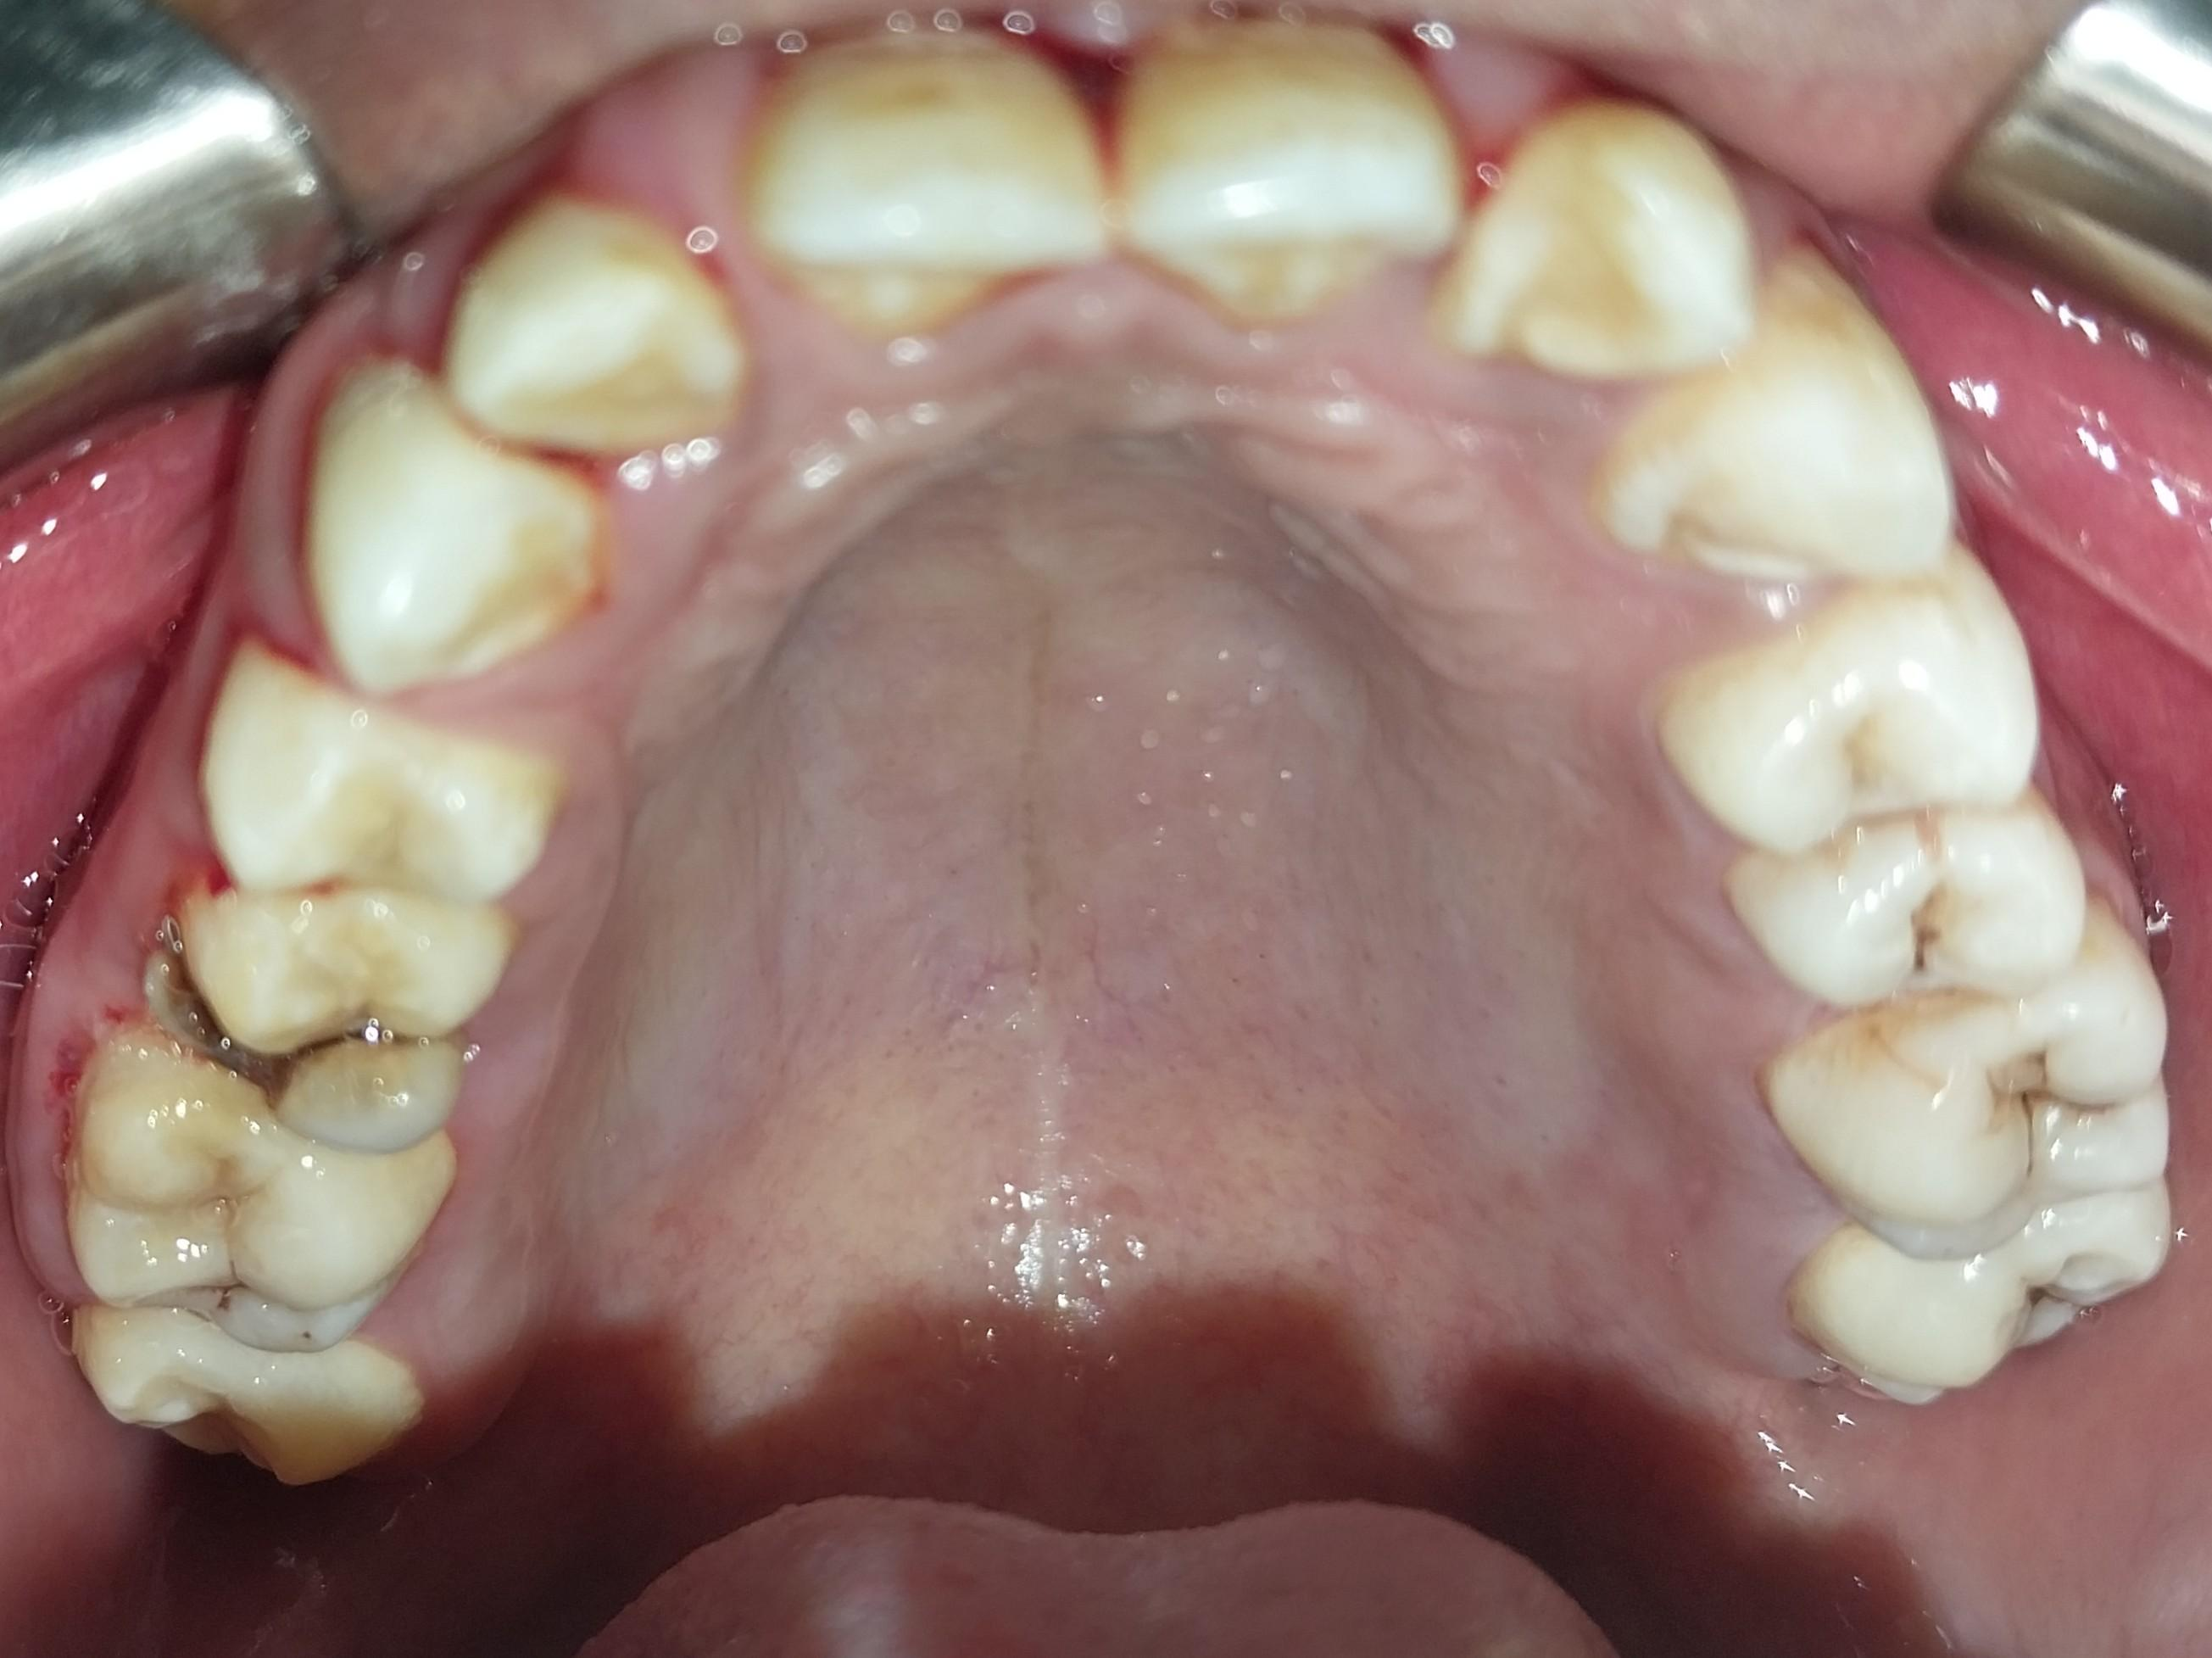D: (1775, 938, 2168, 1259), (64, 1041, 438, 1351), (1731, 801, 2083, 1008), (1814, 1191, 2172, 1392)
d: (147, 934, 460, 1145)
